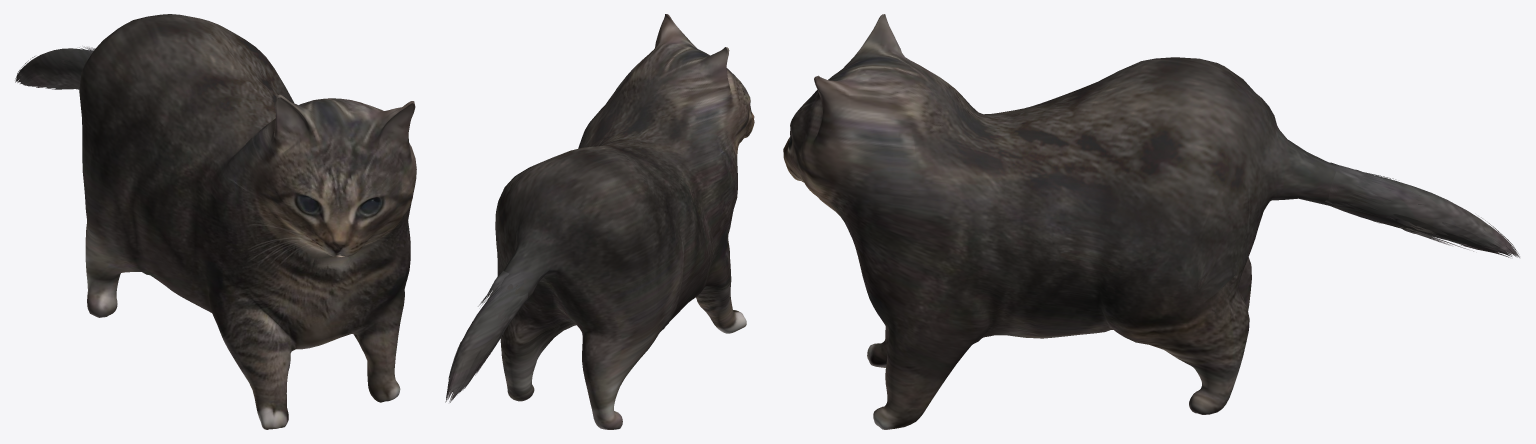
File: cat-without-table.obj
The picture shows the model from 3 angles, left to right: view 1: azimuth 30°, elevation 25°; view 2: azimuth 150°, elevation 25°; view 3: azimuth 270°, elevation 25°; orthographic projection. The views are drawn at different scales.
Parts seen in each view (by area): view 1: Muchkin1.002; view 2: Muchkin1.002; view 3: Muchkin1.002.
Boxes of the visible parts, box(x1,y1,x2,y2) form: Muchkin1.002: box(15, 14, 416, 429); Muchkin1.002: box(445, 14, 754, 429); Muchkin1.002: box(783, 14, 1519, 429).
Size of the model in its own units: 0.2392 by 0.3866 by 0.7242.
